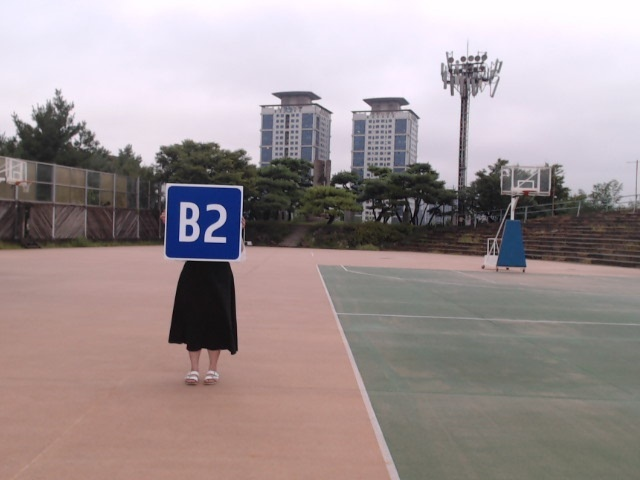delivery_b2: (164, 185, 243, 260)
